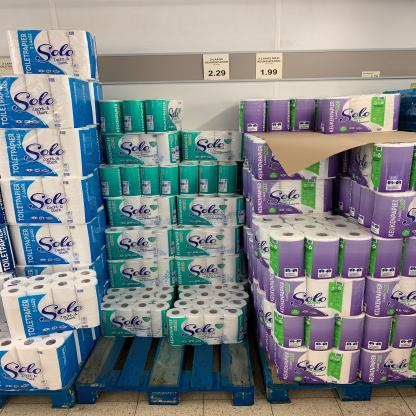prtg: (204, 55, 381, 81), (257, 54, 284, 80)
